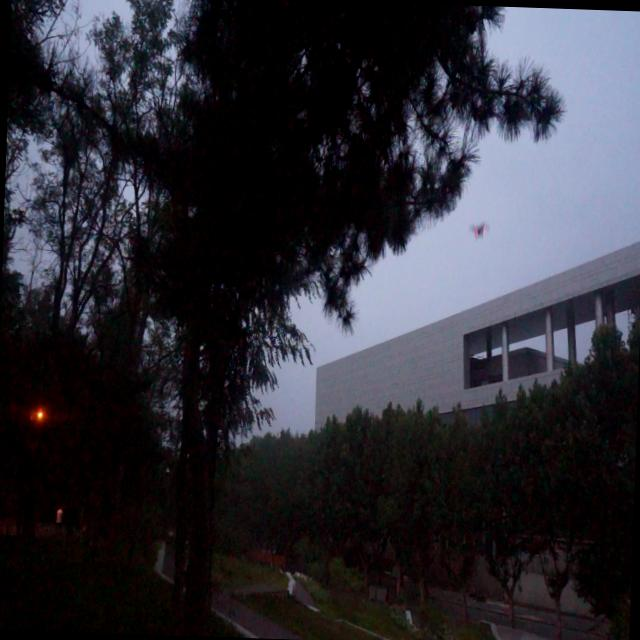drone: (467, 218, 493, 240)
